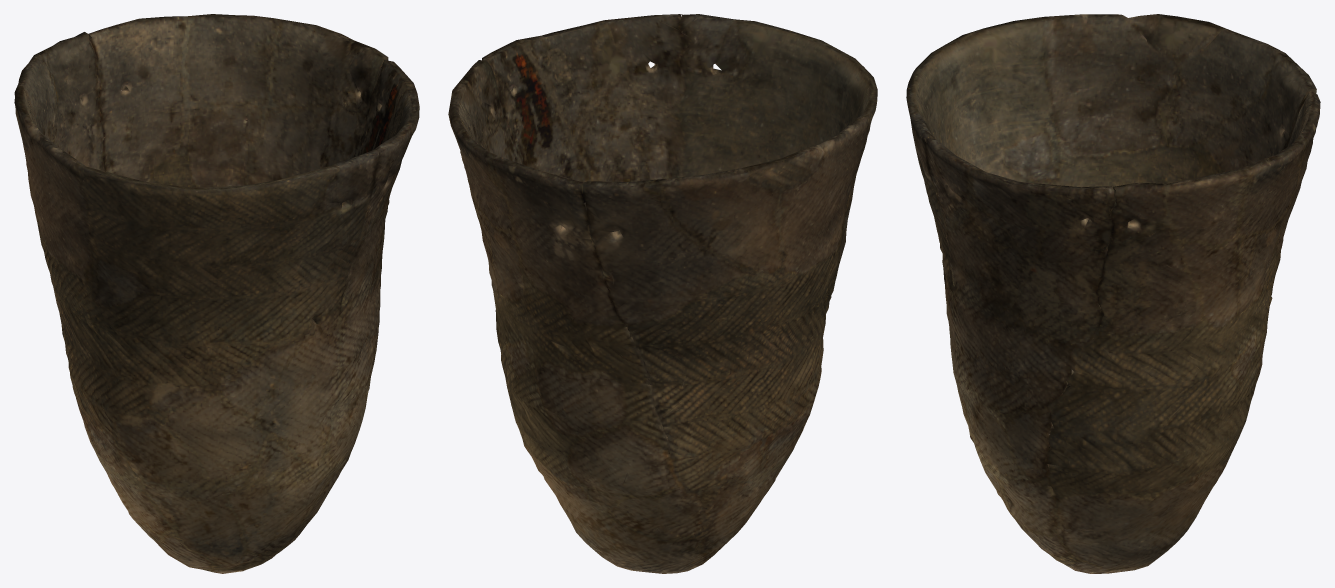
3 renders of one model, left to right at view 1: azimuth 30°, elevation 25°; view 2: azimuth 150°, elevation 25°; view 3: azimuth 270°, elevation 25°, orthographic.
Visible parts, largest first — view 1: MY0001_low; view 2: MY0001_low; view 3: MY0001_low.
Boxes of the visible parts, <box> form: MY0001_low: <box>14,14,419,573</box>; MY0001_low: <box>448,14,877,573</box>; MY0001_low: <box>906,14,1320,573</box>.
Bounding box in the file's own units: 265 × 330 × 269.
1 material, 1 textured.
